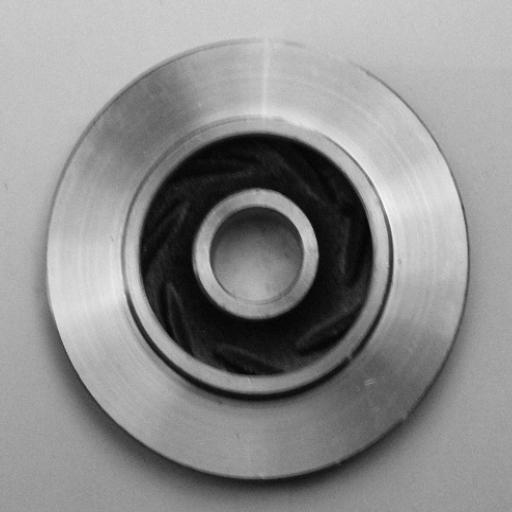scratch: (222, 100, 347, 136)
unpolished_casting: (42, 39, 472, 486)
